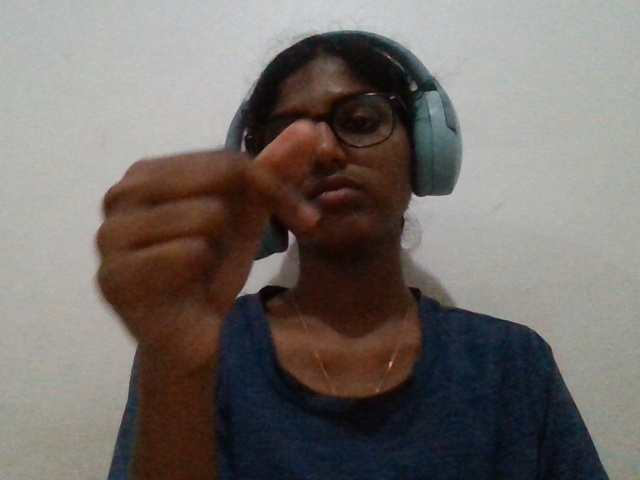G: (74, 96, 336, 470)
